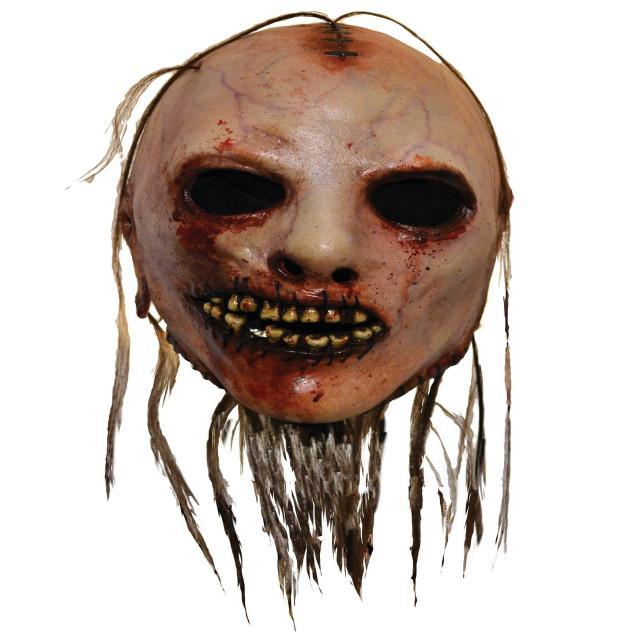flood: (159, 146, 482, 410)
